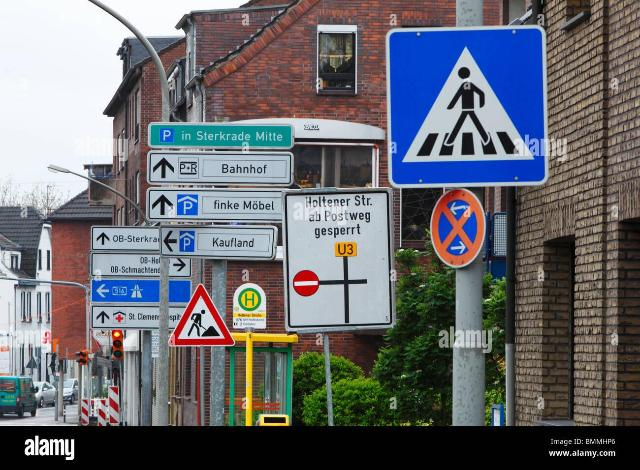B2: (294, 272, 320, 298)
